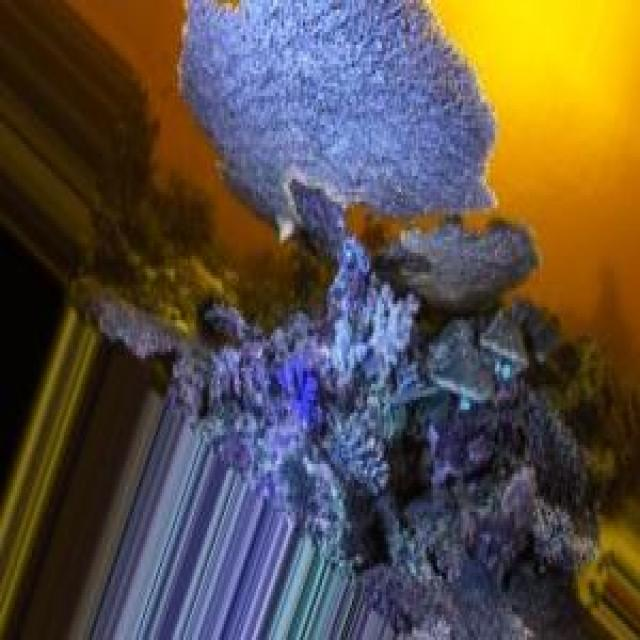Healthy: (123, 187, 417, 571), (330, 244, 590, 640), (178, 1, 500, 235), (413, 283, 539, 407)
